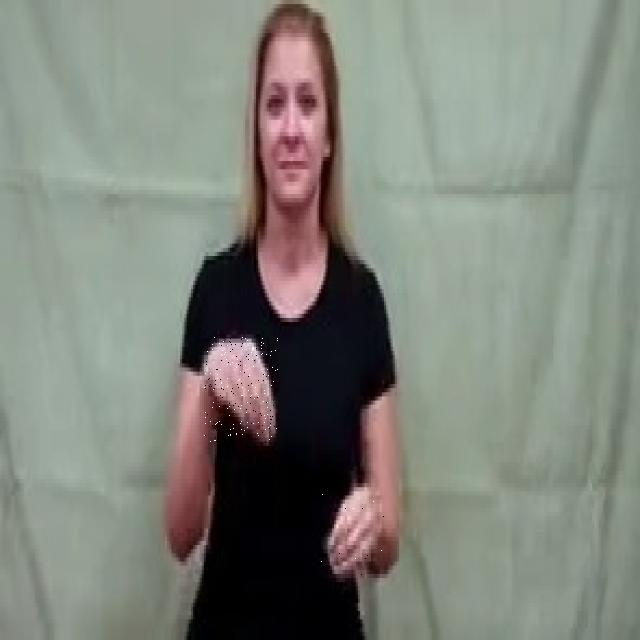ingredients: (204, 336, 278, 444), (321, 476, 384, 578)
